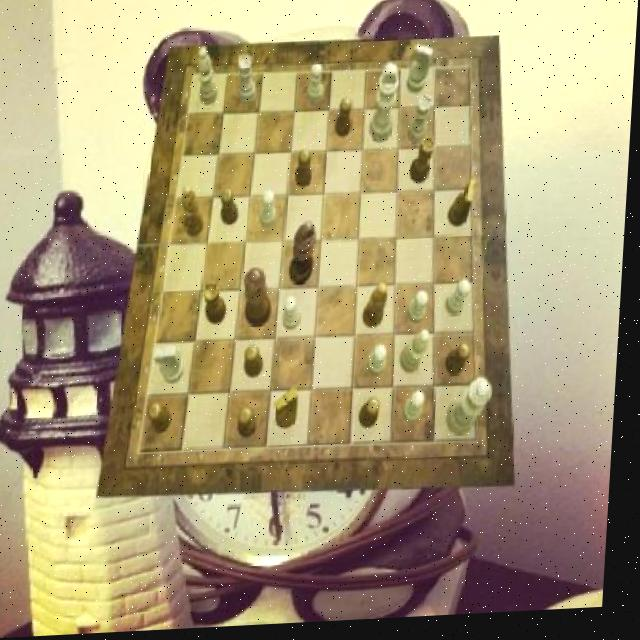bishop: (182, 187, 209, 242), (367, 288, 392, 333)
black-bishop: (292, 225, 321, 290)
black-king: (450, 185, 479, 232), (279, 391, 304, 432)
black-knight: (151, 404, 177, 438), (451, 348, 477, 381), (221, 192, 242, 230), (337, 102, 355, 143), (248, 347, 269, 382), (365, 402, 387, 434), (242, 410, 263, 442), (299, 153, 316, 191)
black-pawn: (246, 271, 278, 332)
black-queen: (413, 142, 439, 189), (206, 284, 233, 327)
black-rook: (196, 48, 221, 107), (405, 335, 434, 379)
white-bishop: (371, 68, 402, 147)
white-king: (408, 49, 435, 99), (159, 347, 191, 387)
white-knight: (450, 285, 477, 322), (407, 395, 431, 429), (411, 296, 433, 331), (310, 67, 327, 109), (379, 67, 397, 106), (263, 193, 281, 231), (371, 348, 392, 380), (286, 298, 305, 333)
white-pawn: (453, 382, 499, 441)
white-queen: (409, 101, 434, 149), (238, 55, 260, 107)
